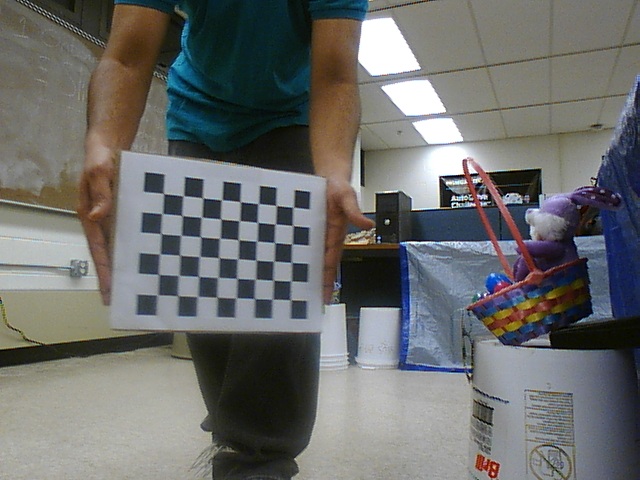bunny: (452, 153, 619, 350)
